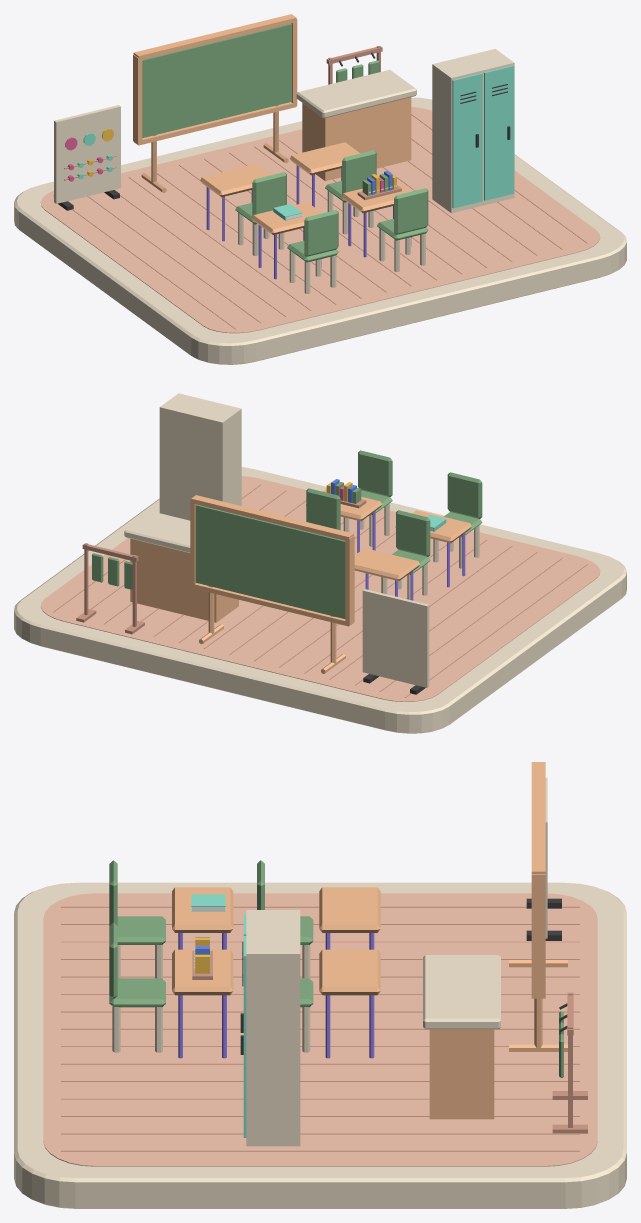
File: room.fbx
The picture shows the model from 3 angles, top to bottom: view 1: azimuth 30°, elevation 25°; view 2: azimuth 150°, elevation 25°; view 3: azimuth 270°, elevation 25°; orthographic projection. The views are drawn at different scales.
Visible parts, largest first — view 1: COM-02 Floor Surface, COM-01 Rounded Base Direct, Board, Desk body, Panel, Case, Door.001, Door, Desk top, Rail.001, Backrest, Backrest.001 (+9 smaller); view 2: COM-02 Floor Surface, COM-01 Rounded Base Direct, Board, Case, Panel, Desk body, Desk top, Rail.001, Backrest, Rounded table top.002, Backrest.001, Backrest.002 (+6 smaller); view 3: COM-02 Floor Surface, COM-01 Rounded Base Direct, Case, Desk body, Desk top, Rounded table top.003, Rounded table top.002, Rounded table top, Rounded table top.001, Frame.001, Rail.001, Seat.001 (+11 smaller).
Part boxes in pixels (x1,y1,x2,y2): COM-02 Floor Surface: (40, 107, 600, 333); COM-01 Rounded Base Direct: (14, 97, 626, 364); Board: (142, 23, 291, 137); Desk body: (302, 97, 411, 181); Panel: (54, 105, 120, 203); Case: (432, 49, 514, 213); Door.001: (484, 65, 514, 200); Door: (452, 73, 482, 208); Desk top: (296, 69, 416, 118); Rail.001: (133, 14, 296, 60); Backrest: (304, 210, 338, 256); Backrest.001: (394, 188, 428, 234); COM-02 Floor Surface: (40, 476, 600, 701); COM-01 Rounded Base Direct: (14, 467, 626, 733); Board: (195, 504, 345, 618); Case: (159, 393, 241, 520); Panel: (362, 589, 429, 687); Desk body: (130, 538, 238, 622); Desk top: (124, 511, 190, 552); Rail.001: (191, 495, 353, 540); Backrest: (447, 472, 482, 518); Rounded table top.002: (354, 548, 419, 580); Backrest.001: (358, 450, 392, 496); Backrest.002: (396, 510, 430, 556); COM-02 Floor Surface: (43, 893, 597, 1166); COM-01 Rounded Base Direct: (14, 882, 626, 1208); Case: (246, 910, 300, 1146); Desk body: (429, 1029, 494, 1119); Desk top: (423, 955, 500, 1029); Rounded table top.003: (319, 949, 380, 995); Rounded table top.002: (319, 887, 380, 932); Rounded table top: (172, 887, 233, 932); Rounded table top.001: (172, 949, 233, 995); Frame.001: (531, 874, 545, 997); Rail.001: (531, 762, 545, 874); Seat.001: (109, 978, 165, 1007).
Bounding box in the file's own units: 600 × 210 × 520.
